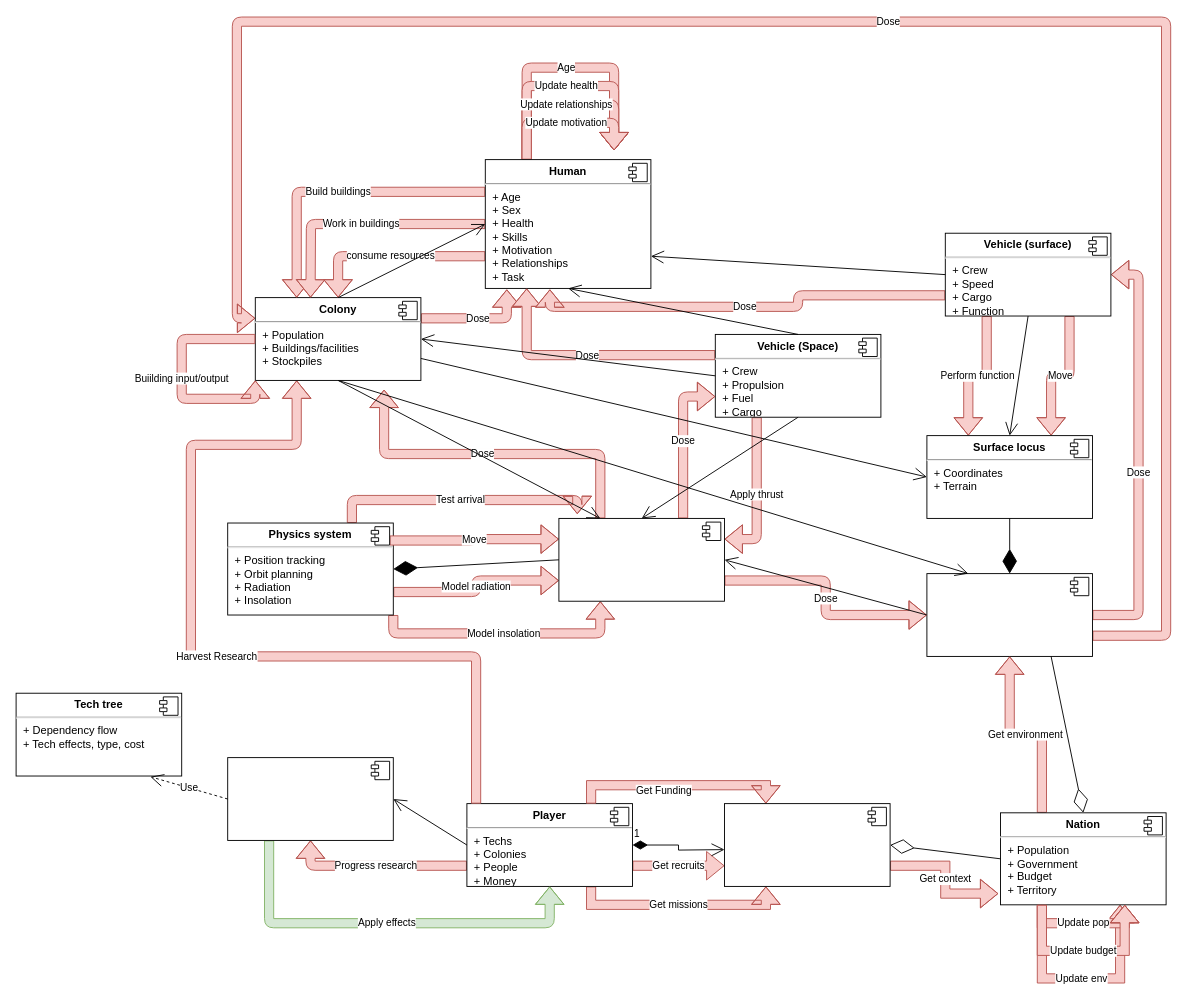
Some shapes in this 1187 by 1000 pixel diagram are drawn without their labels. The shapes that lost their labels are listed below. From the top down, each one's box as (x1, y1, x2, y2) in pixels, then its label:
(558, 518, 724, 601): Particle + Position + Luminance + Mass
(926, 573, 1092, 656): Planetary system + Surface + Atmosphere + Gravity
(227, 757, 393, 840): Player Techs + Discovered + Target + Progress + Available
(724, 803, 890, 886): Organisation + Nation + Type + Resourcing + Attitude
